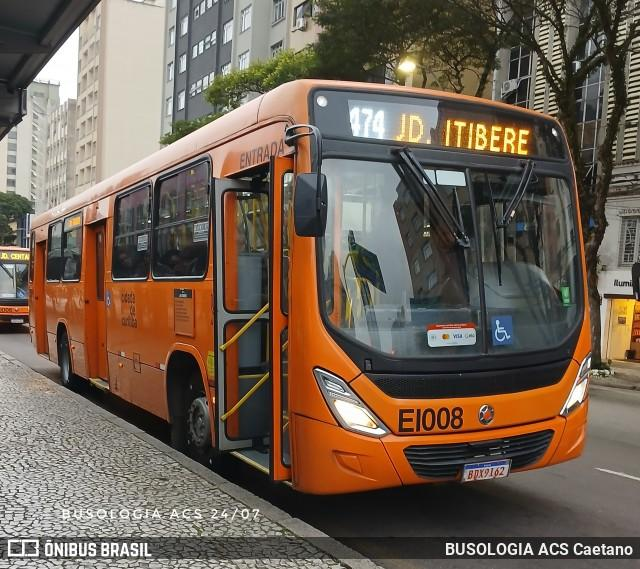JD ITIBERE: (392, 108, 535, 161)
